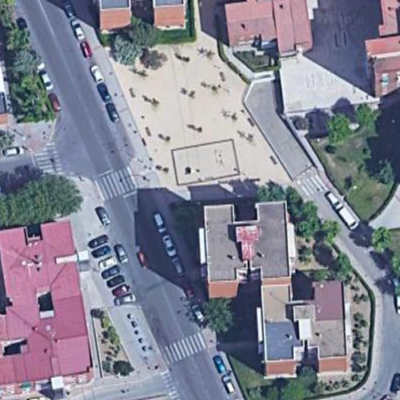tree: (1, 169, 90, 234), (14, 87, 55, 126), (198, 297, 236, 336), (7, 53, 44, 90), (3, 16, 37, 56), (109, 34, 145, 69), (327, 250, 361, 284), (324, 113, 357, 144), (370, 224, 395, 255), (277, 376, 307, 400), (257, 181, 284, 204), (322, 217, 344, 244), (112, 355, 135, 380), (295, 216, 316, 239), (286, 187, 303, 206), (99, 312, 113, 329)
